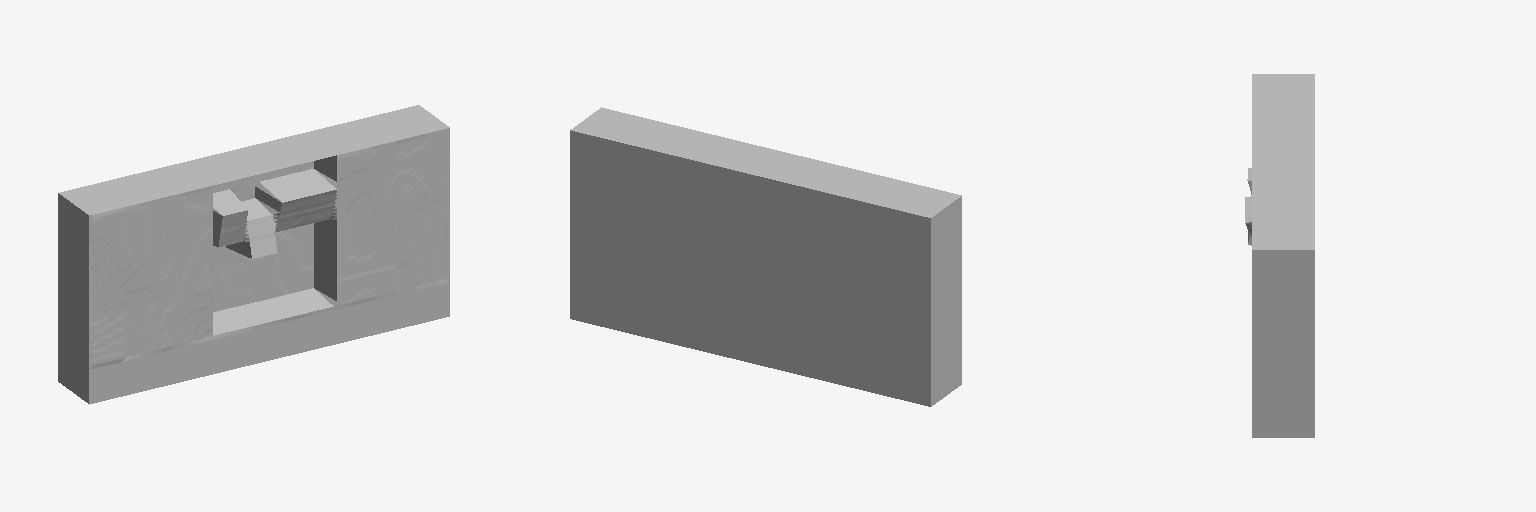
File: rectangular_prism_bumps_4_0.obj
3 renders of one model, left to right at view 1: azimuth 30°, elevation 25°; view 2: azimuth 150°, elevation 25°; view 3: azimuth 270°, elevation 25°, orthographic.
Size of the model in its own units: 10 by 5 by 1.67.